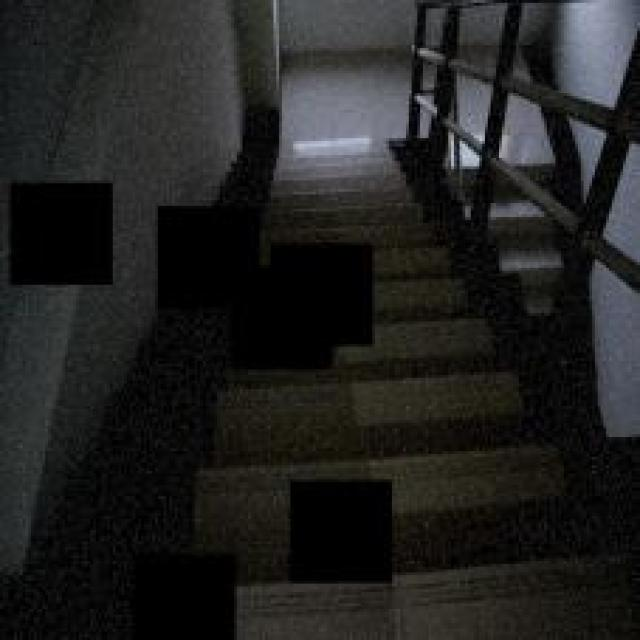downstair: (265, 136, 414, 228)
